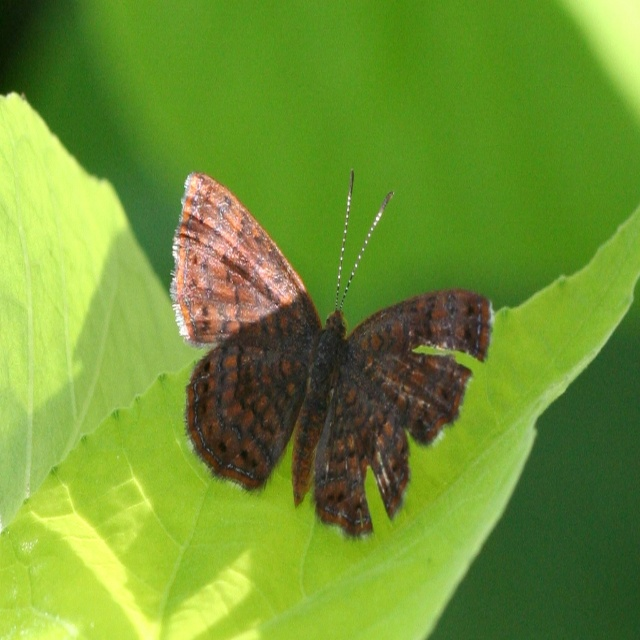Butterfly: (163, 174, 503, 525)
